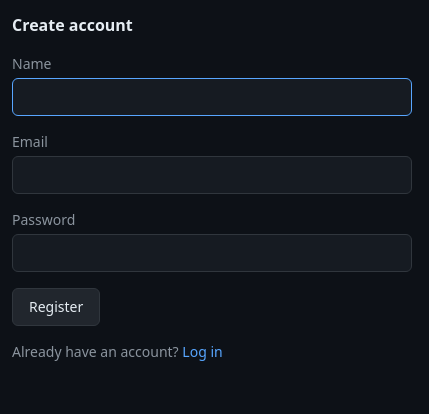
Register › shows error when email is already in use
The width and height of the screenshot is (429, 414).
In the field labelled "Name": (212, 97) top-left (12, 78), bottom-right (412, 116), type "Alice"
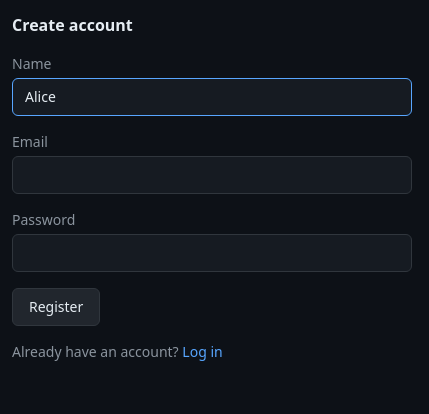
In the field labelled "Email": (212, 175) top-left (12, 156), bottom-right (412, 194), type "alice@example.com"
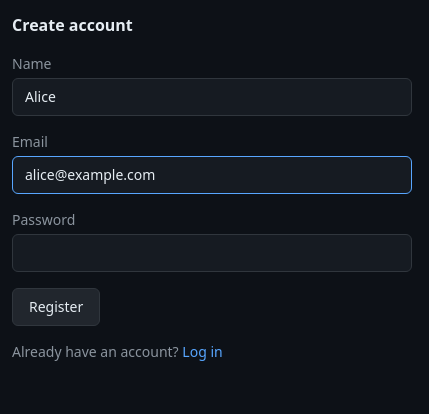
In the password field labelled "Password": (212, 253) top-left (12, 234), bottom-right (412, 272), type "Secret123!"
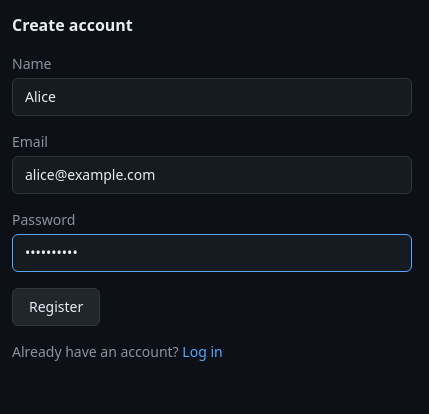
Click the button "Register": (56, 307) top-left (12, 288), bottom-right (100, 326)
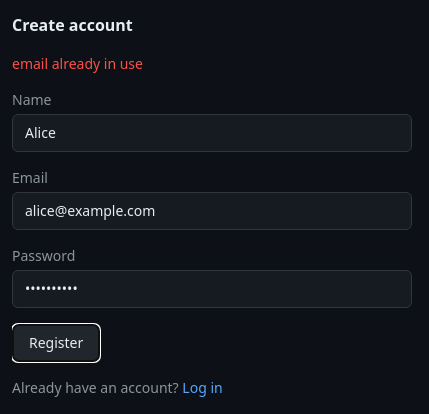
Result: the text "email already in use" is shown at top-left (12, 54), bottom-right (143, 73)
